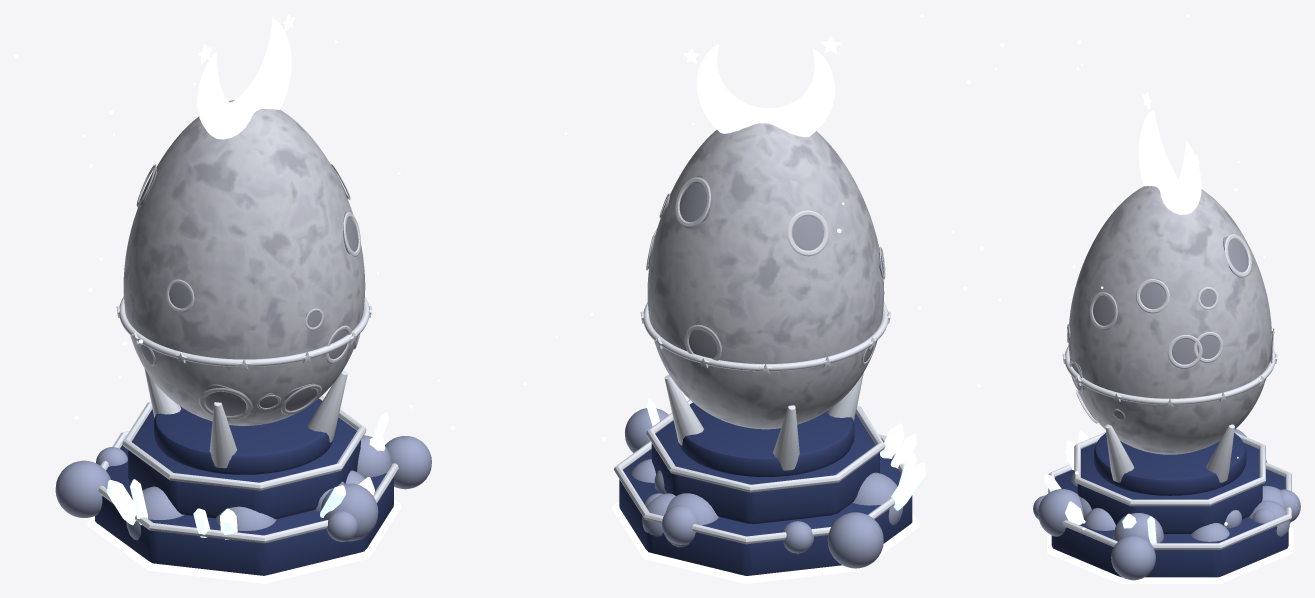
File: moonlightegg.glb
3 views of the same model, side by side, from view 1: azimuth 30°, elevation 25°; view 2: azimuth 150°, elevation 25°; view 3: azimuth 270°, elevation 25° (orthographic). The views are drawn at different scales.
Visible parts, largest first — view 1: MoonlightEgg_Body, MoonlightEgg_Stand_Base, MoonlightEgg_Stand_Mid, MoonlightEgg_Stand_Cup, MoonlightEgg_CrescentMoon, MoonlightEgg_Stand_Trim.002, MoonlightEgg_Stand_Trim.001, MoonlightEgg_NightCloud.010, MoonlightEgg_Stand_Trim, MoonlightEgg_SilverBand, MoonlightEgg_NightCloud.012, MoonlightEgg_NightCloud.006 (+9 smaller); view 2: MoonlightEgg_Body, MoonlightEgg_Stand_Base, MoonlightEgg_Stand_Mid, MoonlightEgg_Stand_Cup, MoonlightEgg_CrescentMoon, MoonlightEgg_Stand_Trim.001, MoonlightEgg_Stand_Trim.002, MoonlightEgg_NightCloud.010, MoonlightEgg_Stand_Trim, MoonlightEgg_SilverBand, MoonlightEgg_NightCloud.013, MoonlightEgg_Stand_Prong (+13 smaller); view 3: MoonlightEgg_Body, MoonlightEgg_Stand_Base, MoonlightEgg_Stand_Mid, MoonlightEgg_Stand_Cup, MoonlightEgg_CrescentMoon, MoonlightEgg_Stand_Trim.001, MoonlightEgg_Stand_Trim.002, MoonlightEgg_Stand_Trim, MoonlightEgg_NightCloud.012, MoonlightEgg_SilverBand, MoonlightEgg_NightCloud.006, MoonlightEgg_Stand_Prong.003 (+15 smaller).
Boxes of the visible parts, box(x1,y1,x2,y2) form: MoonlightEgg_Body: box(123, 100, 365, 425); MoonlightEgg_Stand_Base: box(95, 445, 393, 575); MoonlightEgg_Stand_Mid: box(128, 410, 360, 519); MoonlightEgg_Stand_Cup: box(154, 398, 334, 474); MoonlightEgg_CrescentMoon: box(197, 18, 291, 139); MoonlightEgg_Stand_Trim.002: box(87, 499, 401, 583); MoonlightEgg_Stand_Trim.001: box(122, 396, 366, 490); MoonlightEgg_NightCloud.010: box(55, 460, 110, 517); MoonlightEgg_Stand_Trim: box(98, 431, 398, 543); MoonlightEgg_SilverBand: box(119, 296, 369, 366); MoonlightEgg_NightCloud.012: box(385, 436, 431, 489); MoonlightEgg_NightCloud.006: box(320, 483, 378, 541); MoonlightEgg_Body: box(647, 123, 884, 429); MoonlightEgg_Stand_Base: box(619, 449, 912, 575); MoonlightEgg_Stand_Mid: box(651, 413, 879, 524); MoonlightEgg_Stand_Cup: box(677, 402, 854, 476); MoonlightEgg_CrescentMoon: box(696, 44, 834, 137); MoonlightEgg_Stand_Trim.001: box(646, 399, 885, 492); MoonlightEgg_Stand_Trim.002: box(612, 501, 919, 583); MoonlightEgg_NightCloud.010: box(827, 512, 883, 568); MoonlightEgg_Stand_Trim: box(614, 434, 904, 544); MoonlightEgg_SilverBand: box(643, 302, 888, 371); MoonlightEgg_NightCloud.013: box(852, 472, 903, 525); MoonlightEgg_Stand_Prong: box(664, 375, 703, 445); MoonlightEgg_Body: box(1068, 186, 1271, 454); MoonlightEgg_Stand_Base: box(1051, 469, 1288, 577); MoonlightEgg_Stand_Mid: box(1077, 442, 1262, 533); MoonlightEgg_Stand_Cup: box(1094, 433, 1246, 495); MoonlightEgg_CrescentMoon: box(1138, 110, 1201, 214); MoonlightEgg_Stand_Trim.001: box(1074, 432, 1265, 506); MoonlightEgg_Stand_Trim.002: box(1047, 521, 1293, 583); MoonlightEgg_Stand_Trim: box(1048, 462, 1291, 549); MoonlightEgg_NightCloud.012: box(1111, 535, 1155, 580); MoonlightEgg_SilverBand: box(1064, 346, 1275, 404); MoonlightEgg_NightCloud.006: box(1038, 489, 1083, 536); MoonlightEgg_Stand_Prong.003: box(1105, 424, 1134, 482).
Size of the model in its own units: 5.46 by 5.92 by 3.34.
Materials: 9 (1 with a texture image).
